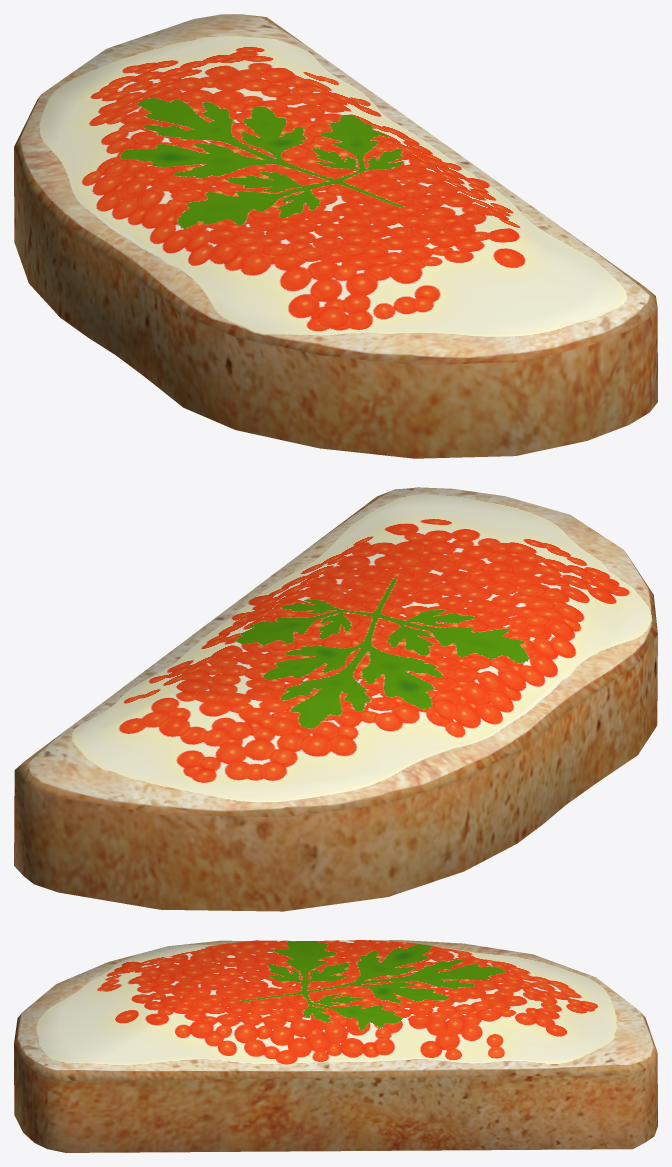
Rendered from BuffetSnacks03_8.FBX.
3 views of the same model, one above another, from view 1: azimuth 30°, elevation 25°; view 2: azimuth 150°, elevation 25°; view 3: azimuth 270°, elevation 25° (orthographic). The views are drawn at different scales.
Visible parts, largest first — view 1: BuffetSnacks03_8; view 2: BuffetSnacks03_8; view 3: BuffetSnacks03_8.
Part boxes in pixels (left/top/right/bottom): BuffetSnacks03_8: left=14, top=14, right=657, bottom=458; BuffetSnacks03_8: left=14, top=487, right=657, bottom=911; BuffetSnacks03_8: left=14, top=940, right=657, bottom=1152.
Size of what is drawn, in the model's own units: 0.117 by 0.0404 by 0.2319.
